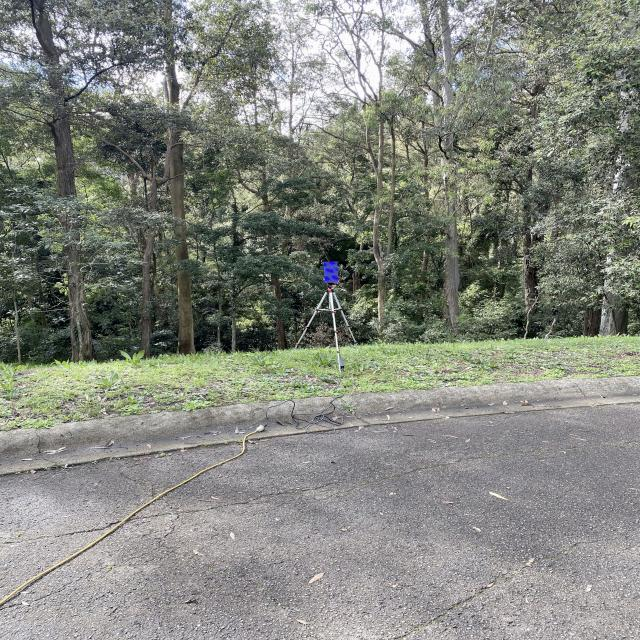matrix: (320, 260, 343, 285)
